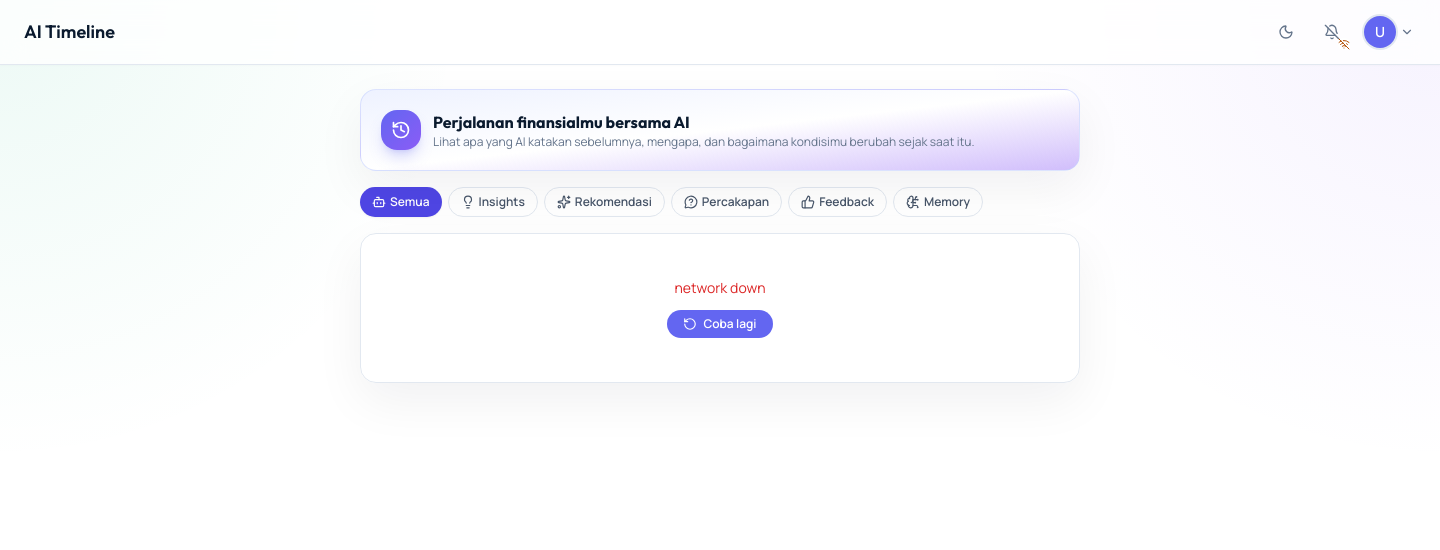
AiTimelinePage — loading, error, empty › error (listTimeline REJECT) → pesan error + tombol "Coba lagi" memuat ulang
The image size is (1440, 550).
Expected: the text "network down" is shown, [674,278,766,298]
Click the button "Coba lagi" at [720, 324], box [668,310,773,338]
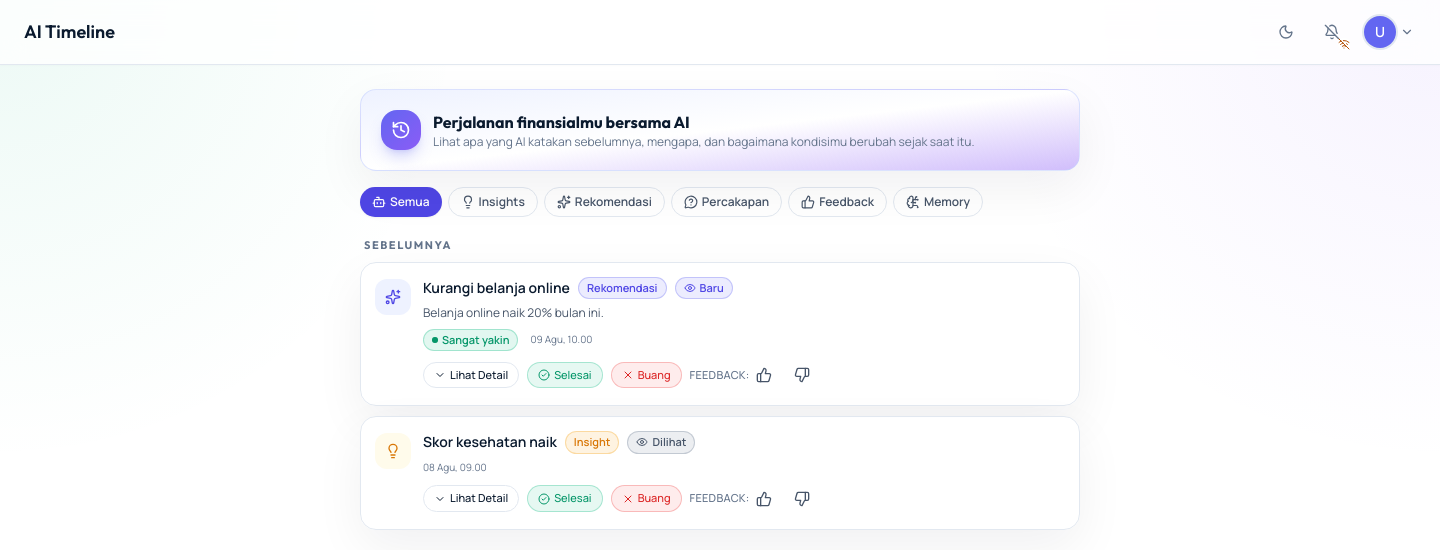
Now the text "Kurangi belanja online" is shown, box [423,278,570,298]
